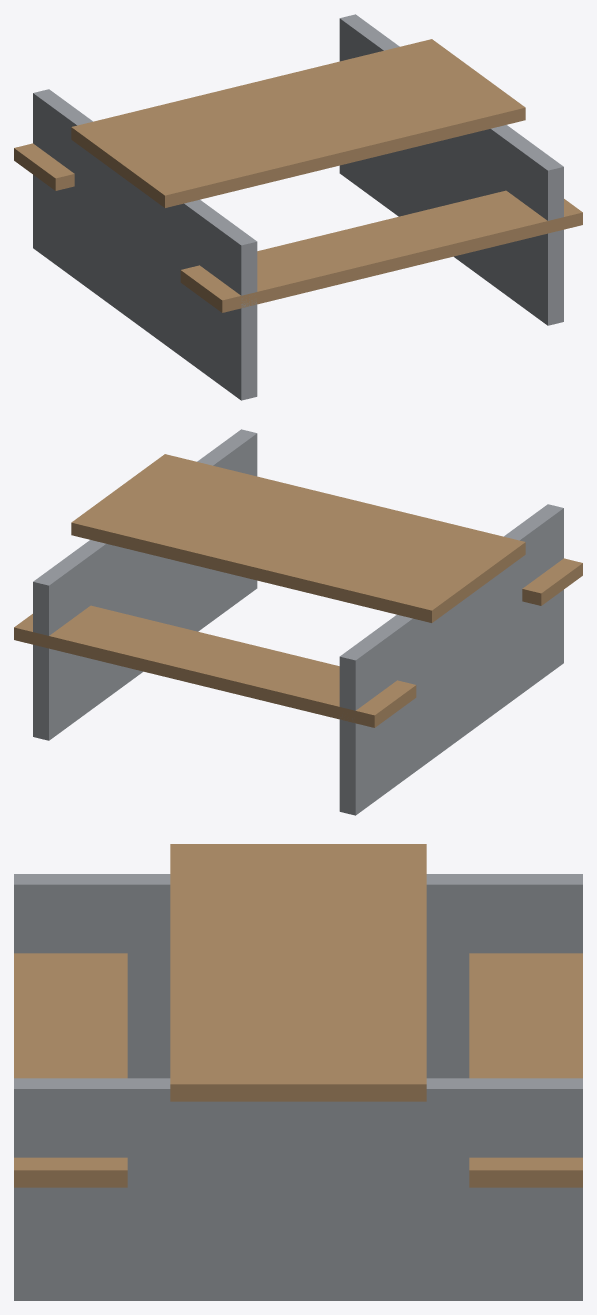
The model's file is picnic-table.glb.
The picture shows the model from 3 angles, top to bottom: view 1: azimuth 30°, elevation 25°; view 2: azimuth 150°, elevation 25°; view 3: azimuth 270°, elevation 25°; orthographic projection. The views are drawn at different scales.
Parts seen in each view (by area): view 1: picnic-table-0, picnic-table-3; view 2: picnic-table-0, picnic-table-3; view 3: picnic-table-3, picnic-table-0.
Part boxes in pixels (x1,y1,x2,y2): picnic-table-0: (14,39,582,312); picnic-table-3: (33,14,563,400); picnic-table-0: (14,454,582,727); picnic-table-3: (33,429,563,815); picnic-table-3: (14,874,582,1300); picnic-table-0: (14,844,582,1187).
Bounding box in the file's own units: 1.8 × 0.7999 × 1.8.
